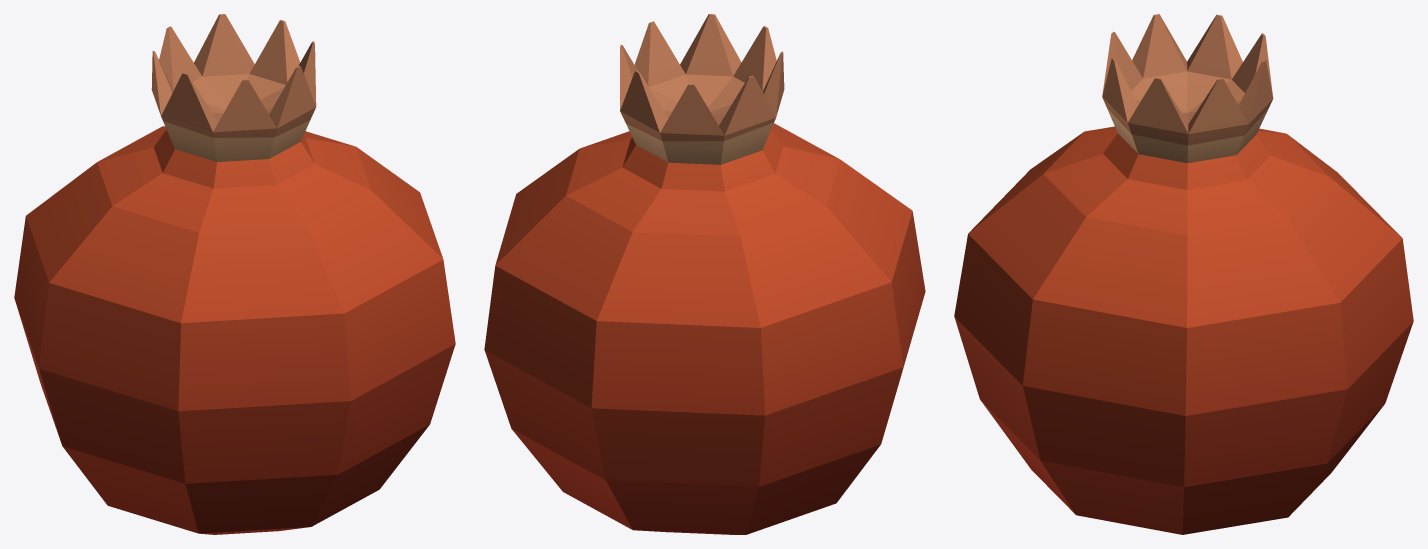
File: garnet.glb
3 views of the same model, side by side, from view 1: azimuth 30°, elevation 25°; view 2: azimuth 150°, elevation 25°; view 3: azimuth 270°, elevation 25° (orthographic).
Parts seen in each view (by area): view 1: garnet; view 2: garnet; view 3: garnet.
Boxes of the visible parts, box(x1,y1,x2,y2) form: garnet: box(14, 14, 455, 534); garnet: box(484, 14, 925, 534); garnet: box(954, 14, 1413, 534).
Size of the model in its own units: 0.6078 by 0.668 by 0.6124.
1 material, 1 textured.
